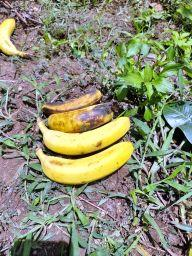banana: (33, 139, 136, 186), (36, 114, 132, 156), (46, 99, 126, 135), (40, 83, 104, 112), (0, 16, 34, 60)
